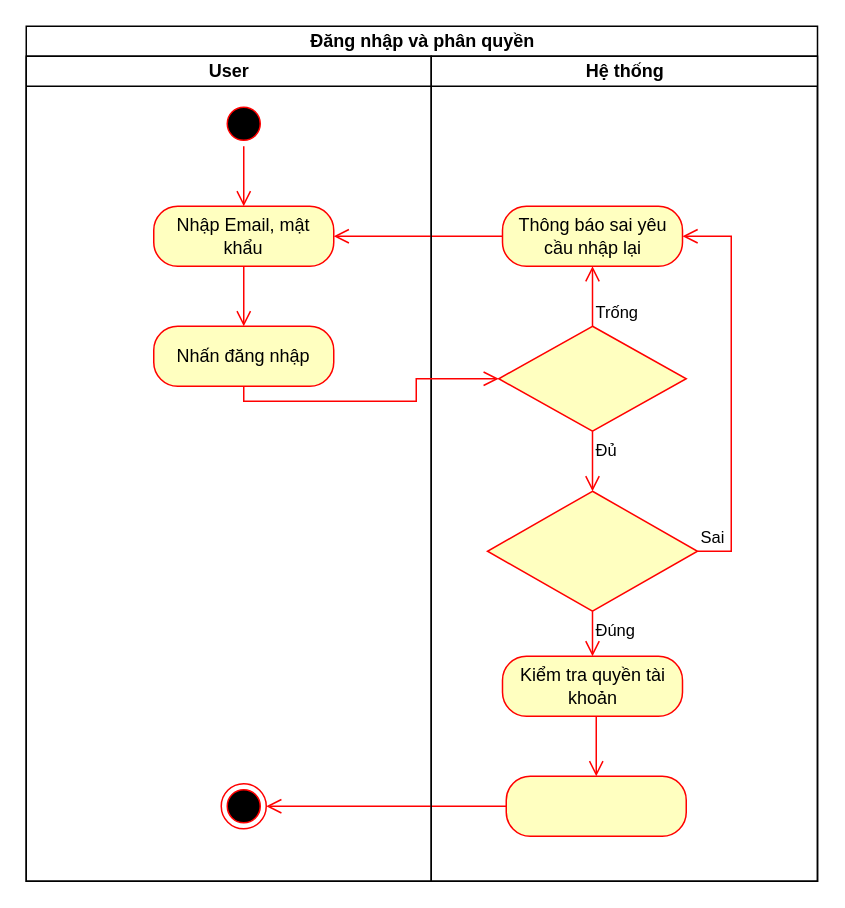
The diagram is 845 pixels wide and 908 high, and some of its shapes have lost their labels. Here are the shapes that lost their labels. From the top down, the box of each, then its label:
(497, 325, 686, 431): Kiểm tra để trống dữ liệu
(486, 490, 698, 611): Kiểm tra Email, mật khẩu
(505, 775, 686, 836): Đến giao diện
